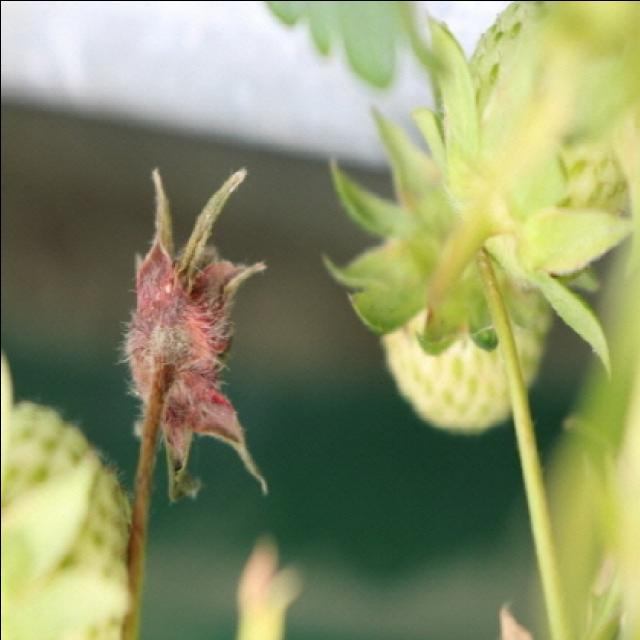Gray Mold: (121, 164, 268, 501)
